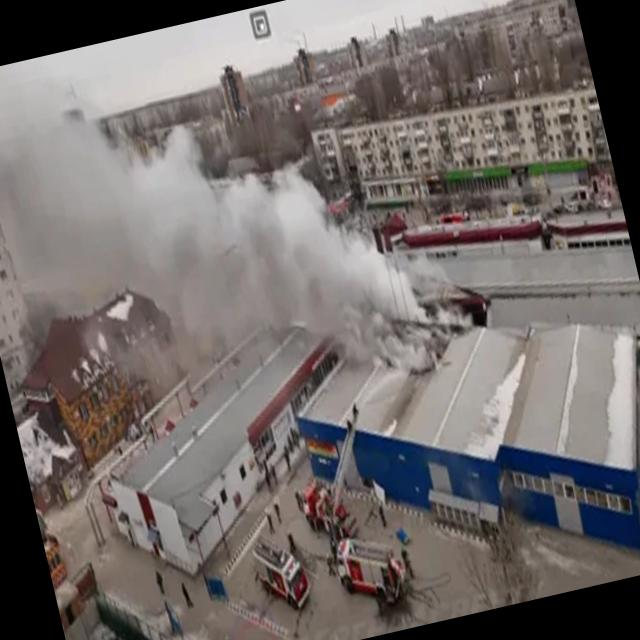Smoke: (0, 41, 479, 449)
